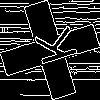K: (25, 25, 79, 70)
